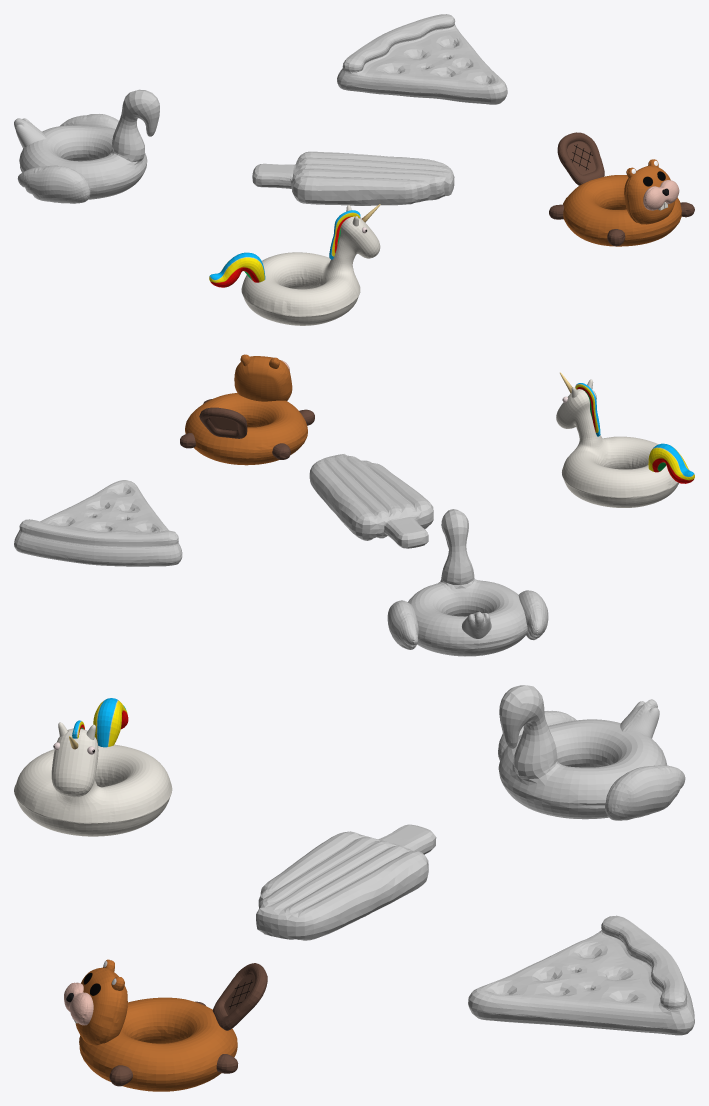
The model's file is SwimRing.fbx.
3 renders of one model, top to bottom at view 1: azimuth 30°, elevation 25°; view 2: azimuth 150°, elevation 25°; view 3: azimuth 270°, elevation 25°, orthographic. The views are drawn at different scales.
Parts seen in each view (by area): view 1: Flamingo, Unicorn, Pizza, Beaver, Icecream; view 2: Flamingo, Pizza, Beaver, Unicorn, Icecream; view 3: Flamingo, Pizza, Beaver, Unicorn, Icecream.
Boxes of the visible parts, x1,y1,x2,y2 form: Flamingo: [14, 89, 159, 203]; Unicorn: [209, 204, 380, 325]; Pizza: [337, 14, 507, 104]; Beaver: [549, 132, 694, 246]; Icecream: [252, 151, 454, 205]; Flamingo: [387, 509, 548, 656]; Pizza: [14, 480, 182, 566]; Beaver: [180, 354, 314, 465]; Unicorn: [556, 372, 694, 507]; Icecream: [309, 454, 433, 548]; Flamingo: [498, 685, 685, 820]; Pizza: [468, 915, 694, 1035]; Beaver: [64, 959, 267, 1091]; Unicorn: [14, 698, 172, 836]; Icecream: [256, 824, 436, 940].
Bounding box in the file's own units: 488 × 111 × 432.
